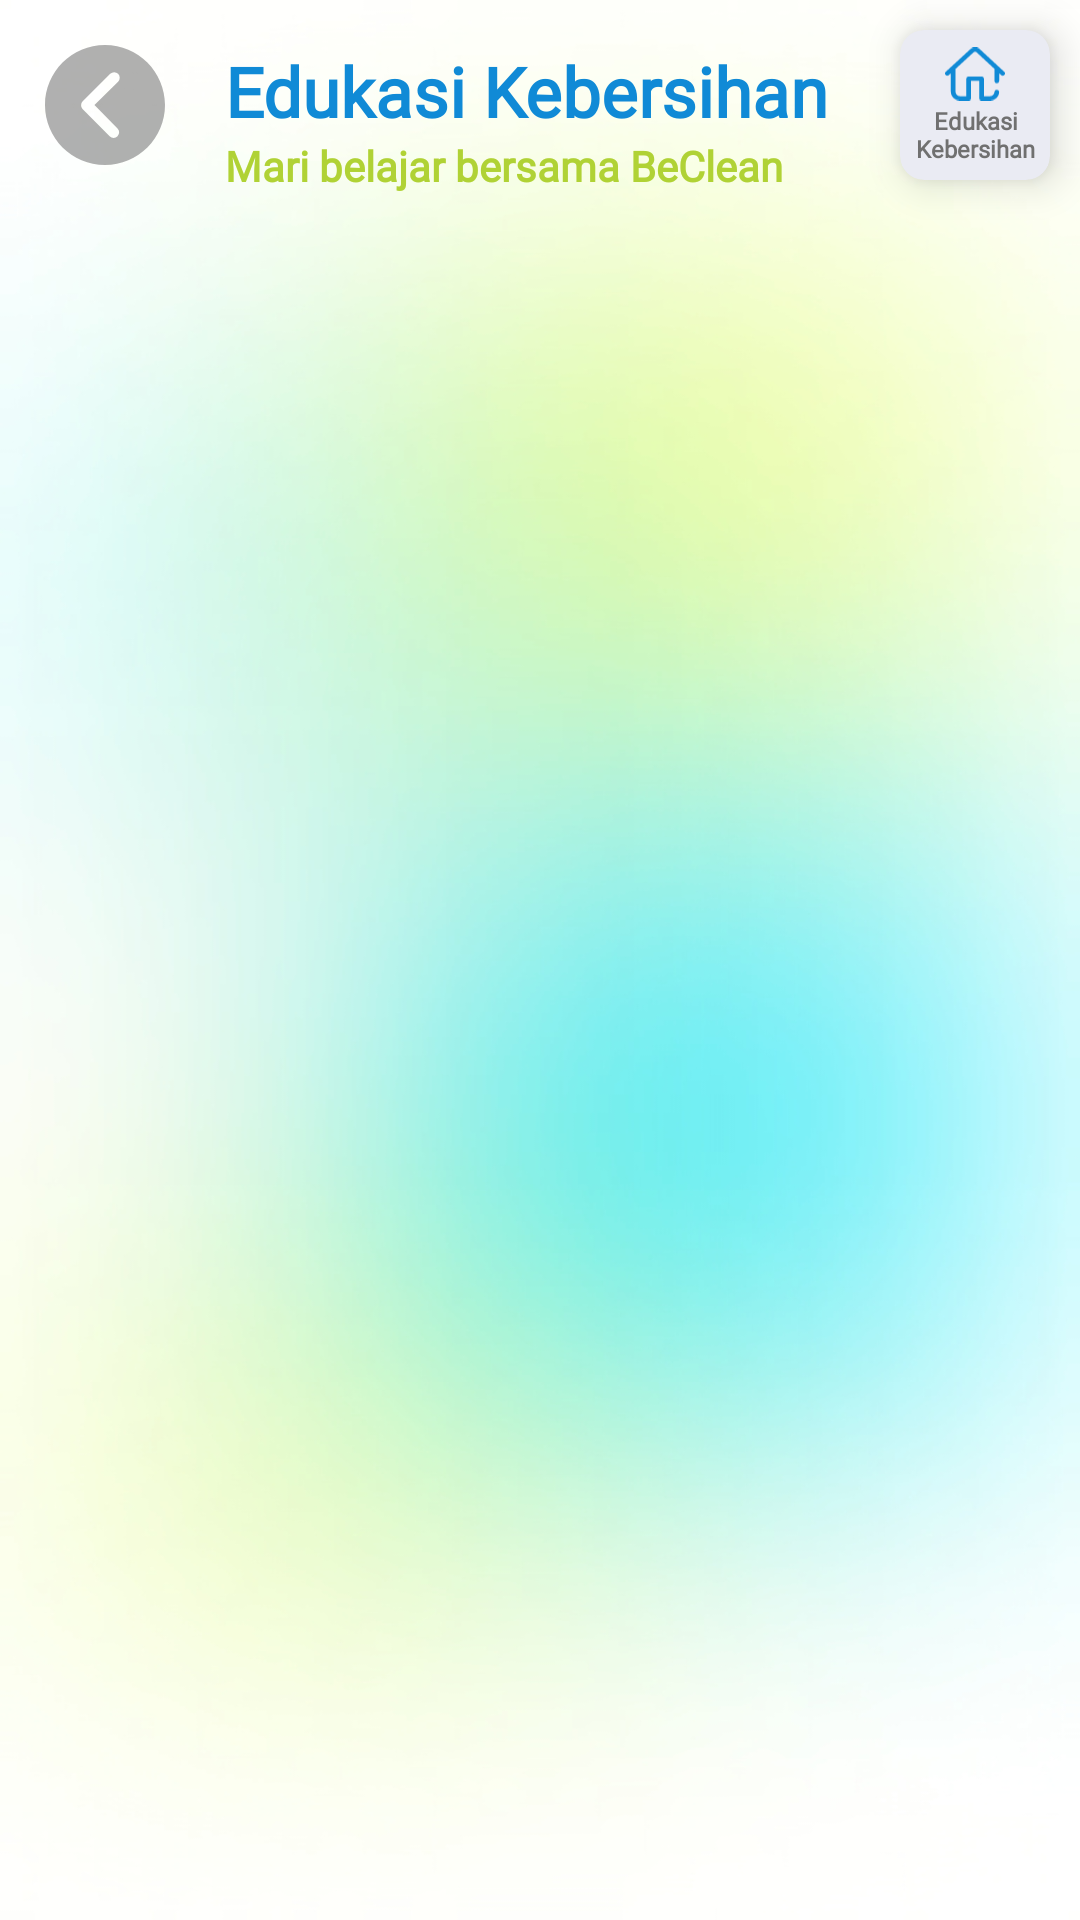

Named icons in this screenshot (1080px x 1920px) and their centers, [x,y]:
ionic arrow dropleft circle: [105,105]
rumah: [975,74]
